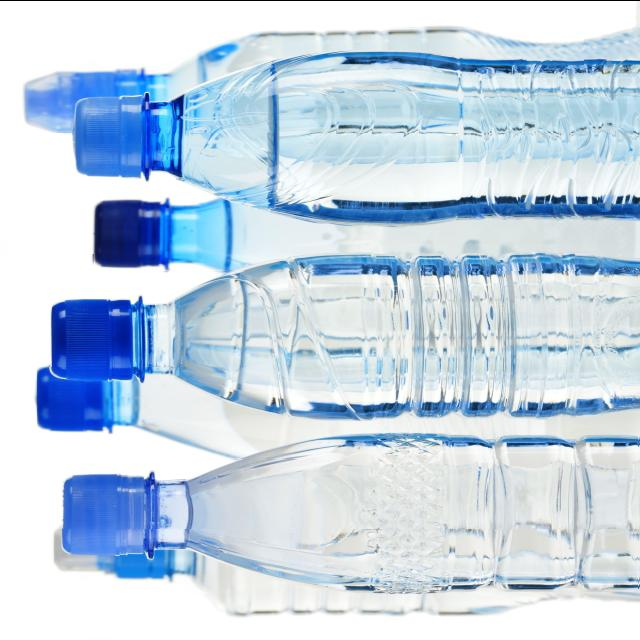bottle: (74, 49, 639, 224), (53, 253, 638, 419), (64, 433, 639, 593), (25, 27, 584, 132), (38, 366, 638, 457), (54, 528, 638, 615), (94, 199, 639, 270)
